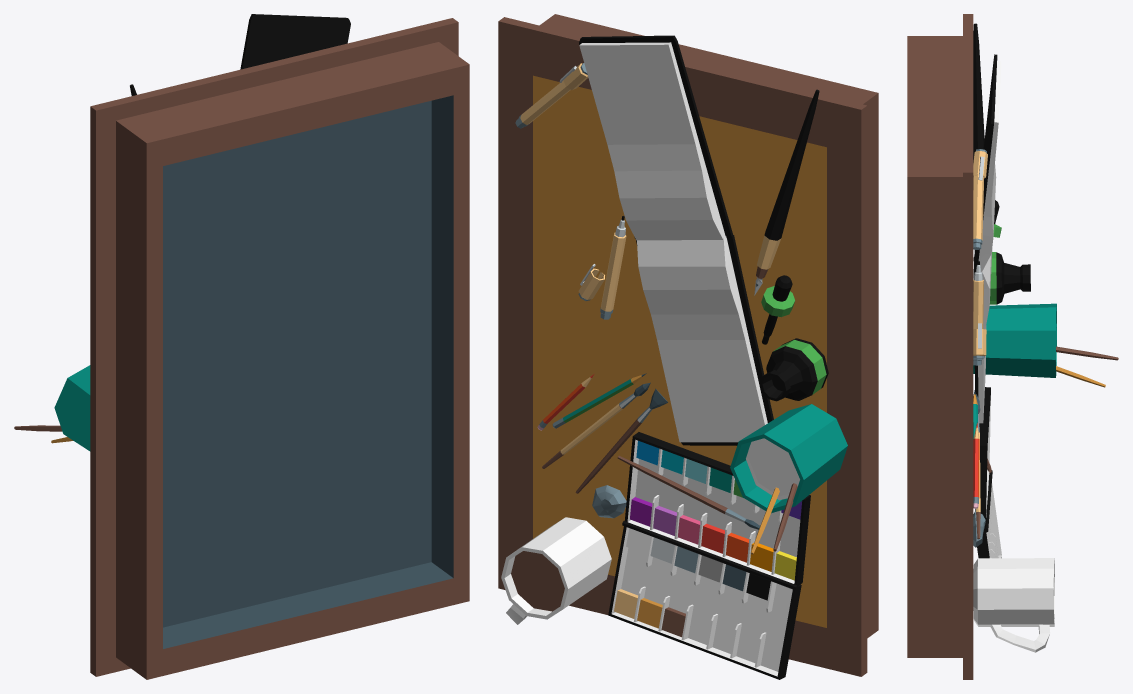
3 renders of one model, left to right at view 1: azimuth 30°, elevation 25°; view 2: azimuth 150°, elevation 25°; view 3: azimuth 270°, elevation 25°, orthographic. The views are drawn at different scales.
Parts seen in each view (by area): view 1: imagetostl_mesh0; view 2: imagetostl_mesh0, imagetostl_mesh1; view 3: imagetostl_mesh0.
Boxes of the visible parts, x1,y1,x2,y2 form: imagetostl_mesh0: (14, 14, 469, 679); imagetostl_mesh0: (498, 14, 878, 679); imagetostl_mesh1: (746, 438, 799, 500); imagetostl_mesh0: (907, 14, 1118, 679).
Size of the model in its own units: 233 by 378 by 131.
